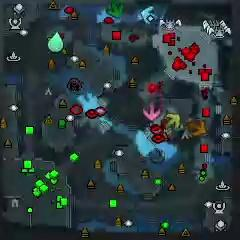p2: (47, 32, 64, 52)
x1: (141, 101, 160, 120)
x2: (165, 113, 181, 128)
x3: (140, 6, 158, 24)
x4: (107, 0, 123, 18)
x5: (188, 119, 207, 136)
